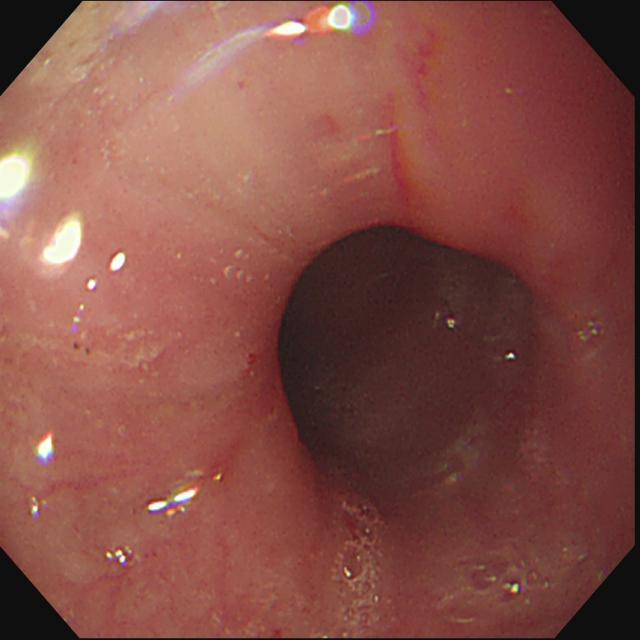E: (271, 216, 541, 509)
T: (338, 496, 388, 630), (460, 558, 546, 605)
U: (264, 3, 359, 40), (41, 211, 84, 269), (2, 152, 35, 205), (144, 486, 203, 515), (35, 434, 55, 463), (108, 251, 127, 275)
